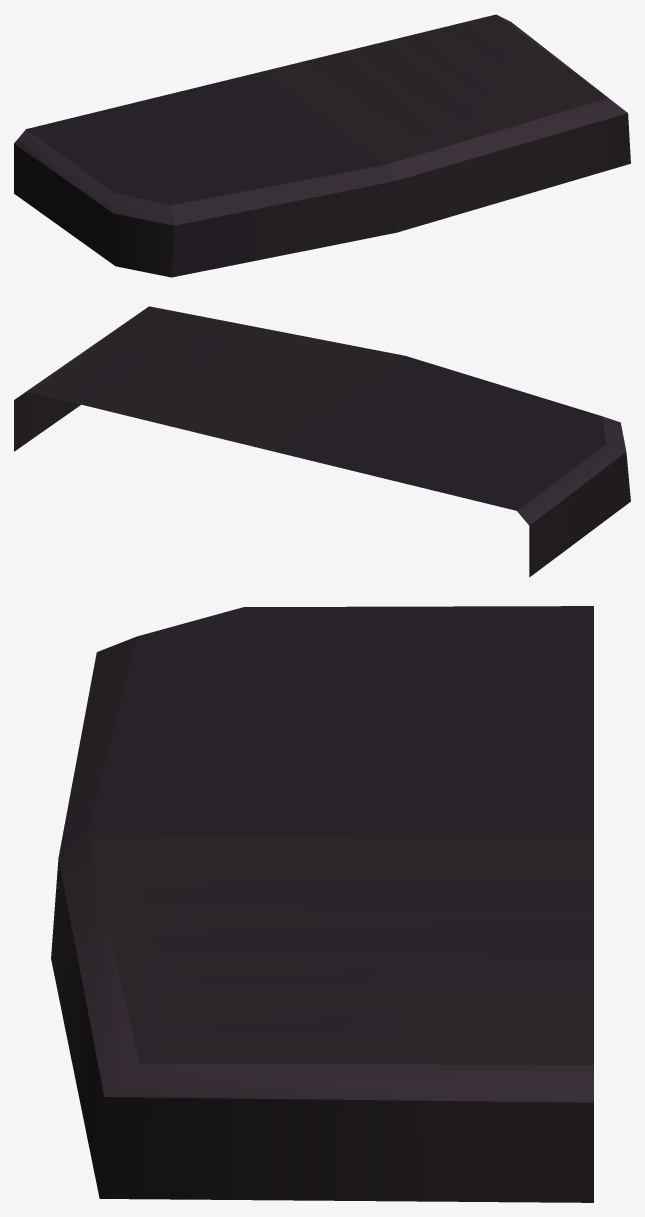
The model's file is floor_pit_edge_3.fbx.
The picture shows the model from 3 angles, top to bottom: view 1: azimuth 30°, elevation 25°; view 2: azimuth 150°, elevation 25°; view 3: azimuth 270°, elevation 25°; orthographic projection. The views are drawn at different scales.
Visible parts, largest first — view 1: floor_pit_edge_3; view 2: floor_pit_edge_3; view 3: floor_pit_edge_3.
Boxes of the visible parts, <box> form: floor_pit_edge_3: <box>14,14,630,277</box>; floor_pit_edge_3: <box>14,306,630,577</box>; floor_pit_edge_3: <box>51,606,593,1202</box>.
Bounding box in the file's own units: 212 × 25 × 100.
